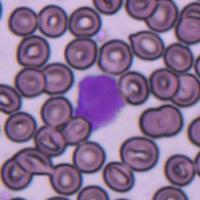M: (76, 73, 126, 130)
